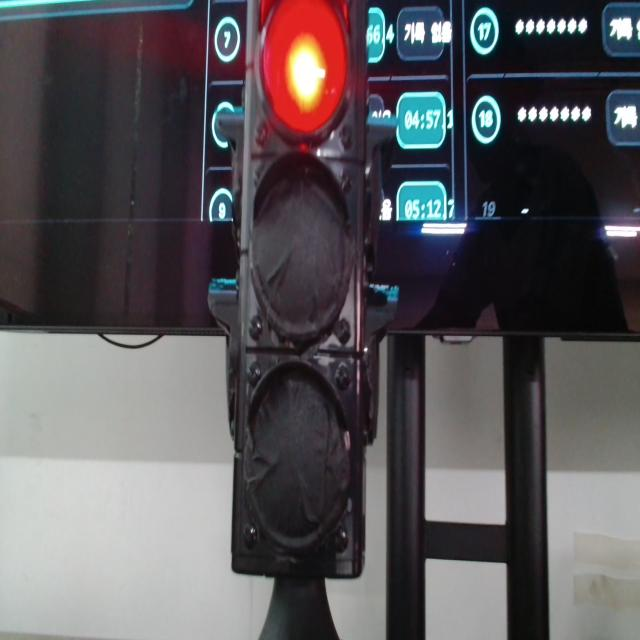red_light: (262, 0, 347, 133)
